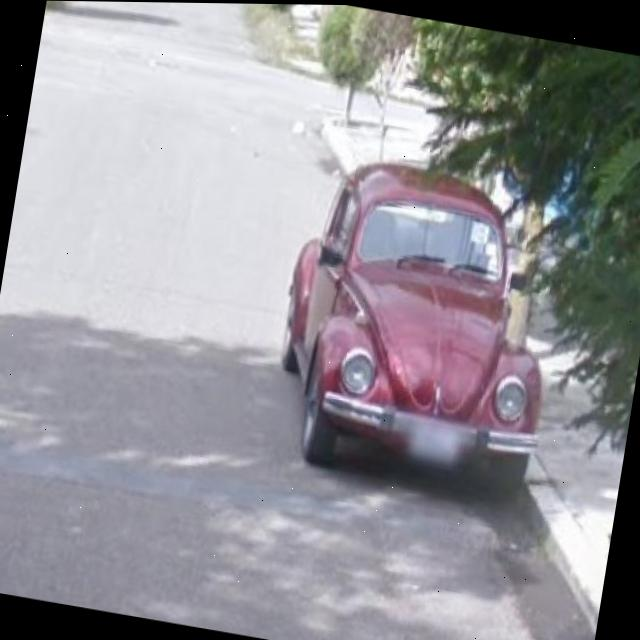vehicle: (262, 145, 575, 490)
